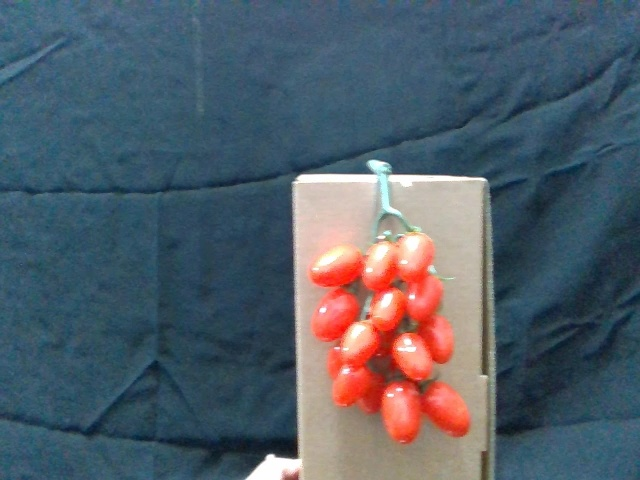tomato: (423, 381, 474, 436), (382, 380, 421, 445), (312, 290, 362, 340), (389, 331, 436, 381), (311, 245, 362, 290), (342, 322, 384, 372), (364, 240, 402, 295), (418, 314, 455, 366), (371, 286, 408, 336), (405, 274, 443, 322), (399, 233, 436, 282), (334, 364, 372, 408)
